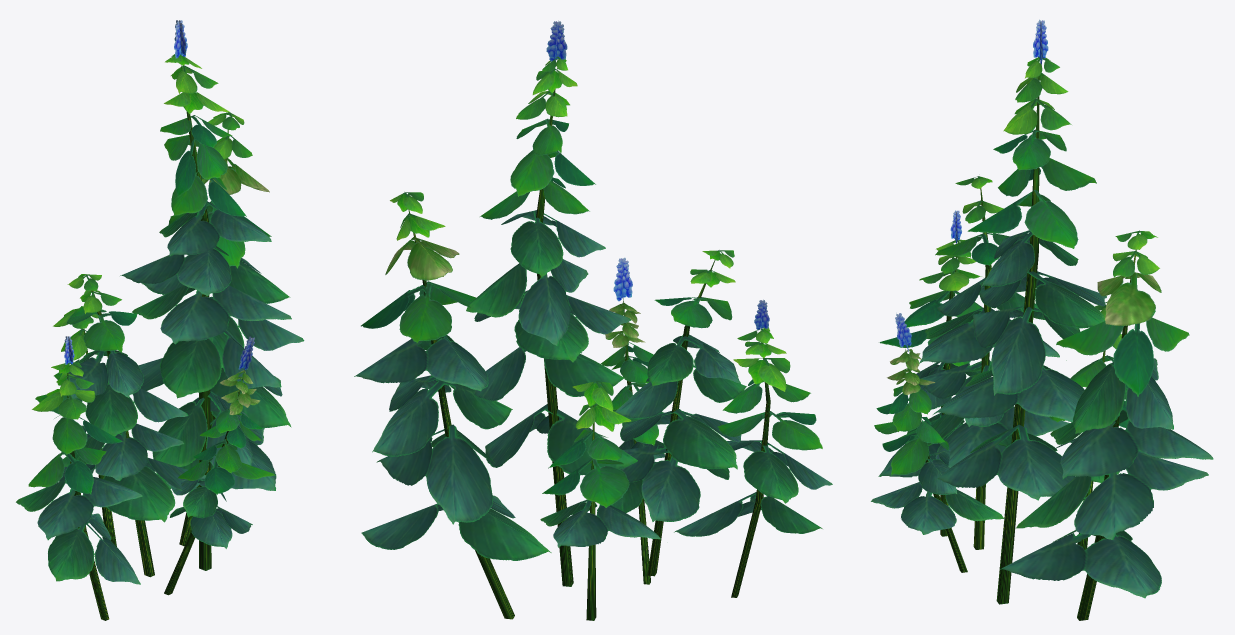
File: wm_灌木洛阳城大灌06.fbx
3 renders of one model, left to right at view 1: azimuth 30°, elevation 25°; view 2: azimuth 150°, elevation 25°; view 3: azimuth 270°, elevation 25°, orthographic. The views are drawn at different scales.
Parts seen in each view (by area): view 1: wm_灌木洛阳城大灌06; view 2: wm_灌木洛阳城大灌06; view 3: wm_灌木洛阳城大灌06.
Part boxes in pixels (x1,y1,x2,y2): wm_灌木洛阳城大灌06: (16, 20, 304, 620); wm_灌木洛阳城大灌06: (354, 20, 832, 620); wm_灌木洛阳城大灌06: (871, 19, 1213, 620).
Bounding box in the file's own units: 217 × 330 × 180.
